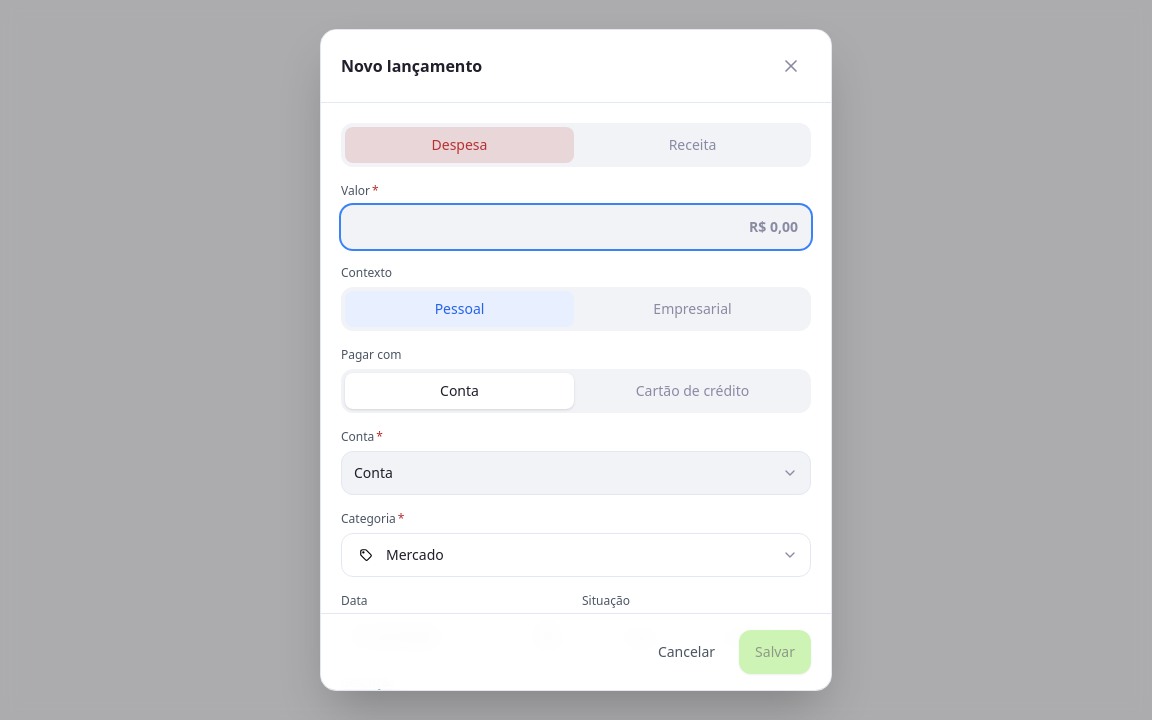
TransactionModal › receita mostra Recebido / A receber
This screenshot has width=1152, height=720.
Click the button "Receita": (692, 145) [578,127,807,163]
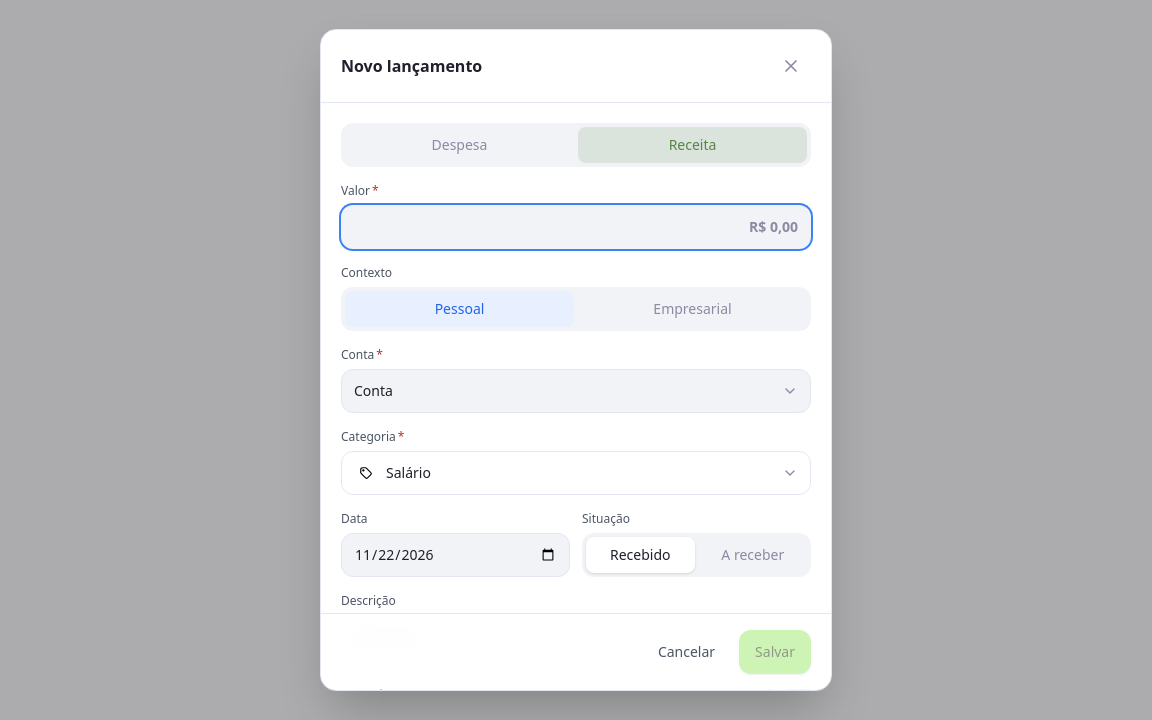
Now the button "Recebido" is shown, box [586,537,694,573]
Now the button "A receber" is shown, box [698,537,807,573]
